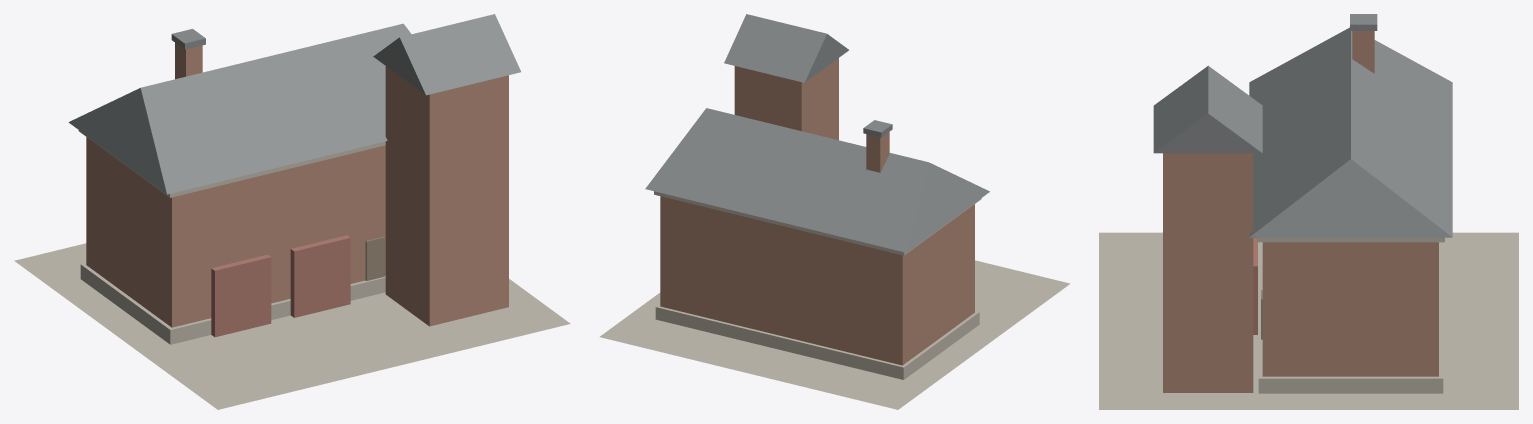
The picture shows the model from 3 angles, left to right: view 1: azimuth 30°, elevation 25°; view 2: azimuth 150°, elevation 25°; view 3: azimuth 270°, elevation 25°; orthographic projection. The views are drawn at different scales.
Visible parts, largest first — view 1: Near; view 2: Near; view 3: Near.
Boxes of the visible parts, x1,y1,x2,y2 form: Near: (14, 14, 570, 409); Near: (600, 14, 1070, 409); Near: (1099, 14, 1518, 409).
Size of the model in its own units: 2 by 1.5 by 2.
